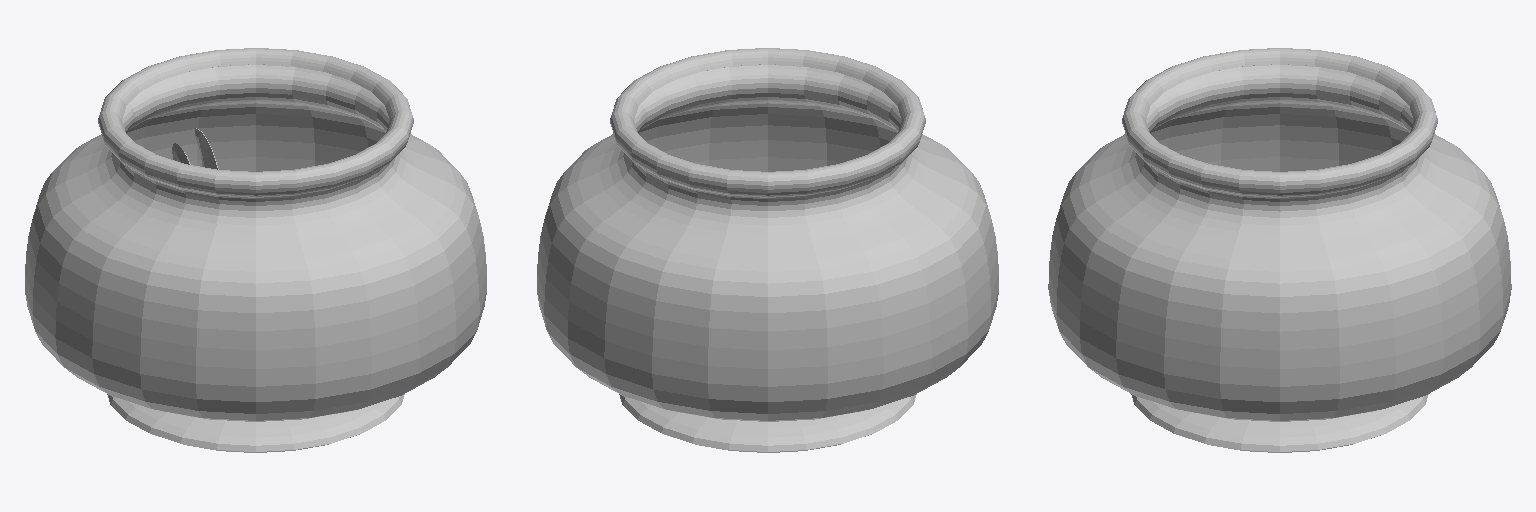
The model's file is FINALGoldfishBowl.obj.
3 views of the same model, side by side, from view 1: azimuth 30°, elevation 25°; view 2: azimuth 150°, elevation 25°; view 3: azimuth 270°, elevation 25° (orthographic).
Parts seen in each view (by area): view 1: Fish_Bowl, FishMesh; view 2: Fish_Bowl; view 3: Fish_Bowl.
Boxes of the visible parts, x1=… form: Fish_Bowl: x1=25, y1=48, x2=486, y2=452; FishMesh: x1=172, y1=128, x2=218, y2=169; Fish_Bowl: x1=537, y1=48, x2=998, y2=452; Fish_Bowl: x1=1048, y1=48, x2=1511, y2=452.
Bounding box in the file's own units: 18.01 × 12.45 × 18.01.